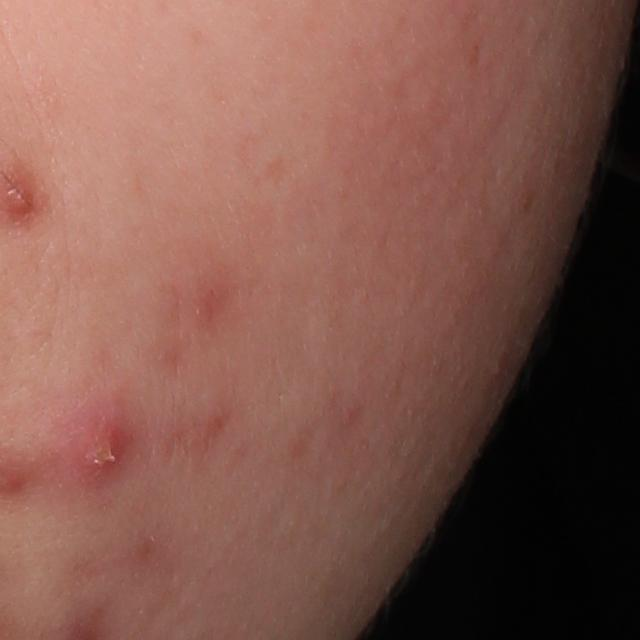papule: (70, 418, 129, 485)
